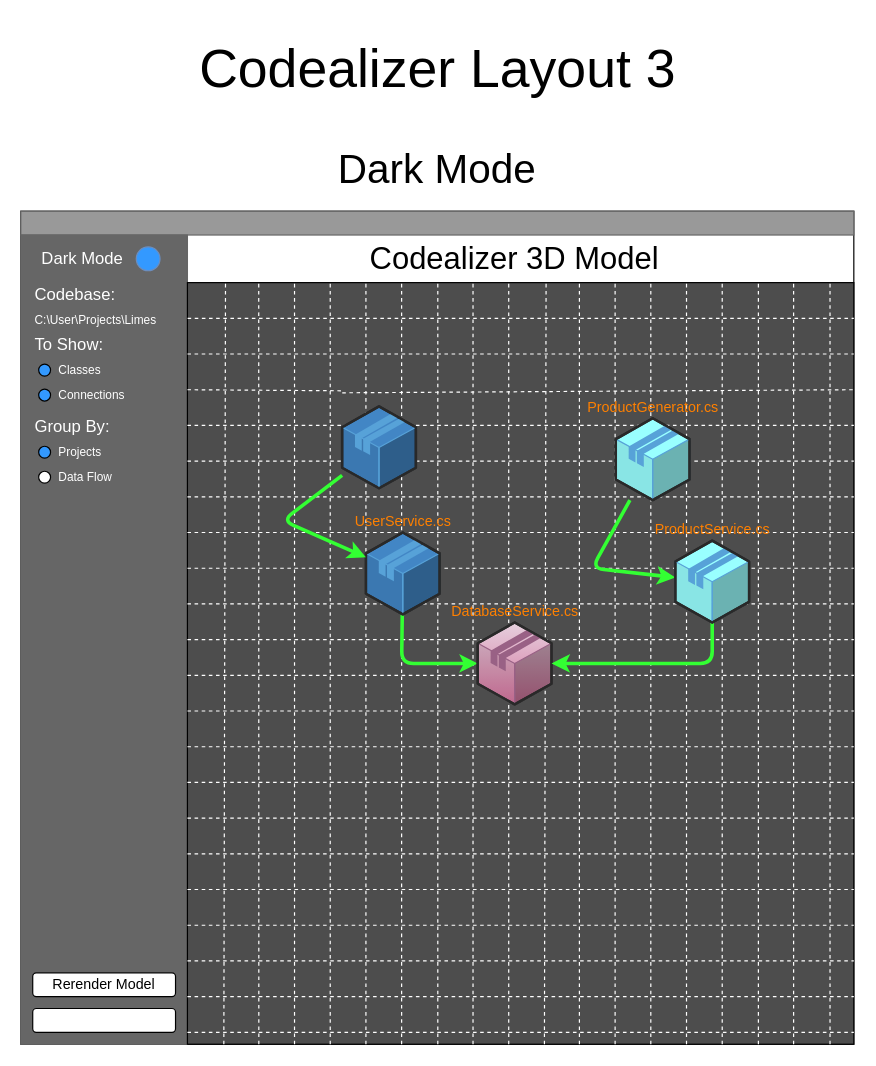
Image size: 876x1066. Some labels were removed from this diagram. Each missing label, with the centre of its shape:
"Back" belongs at (x=104, y=1019).
"UserGenerator.cs" belongs at (x=378, y=446).
